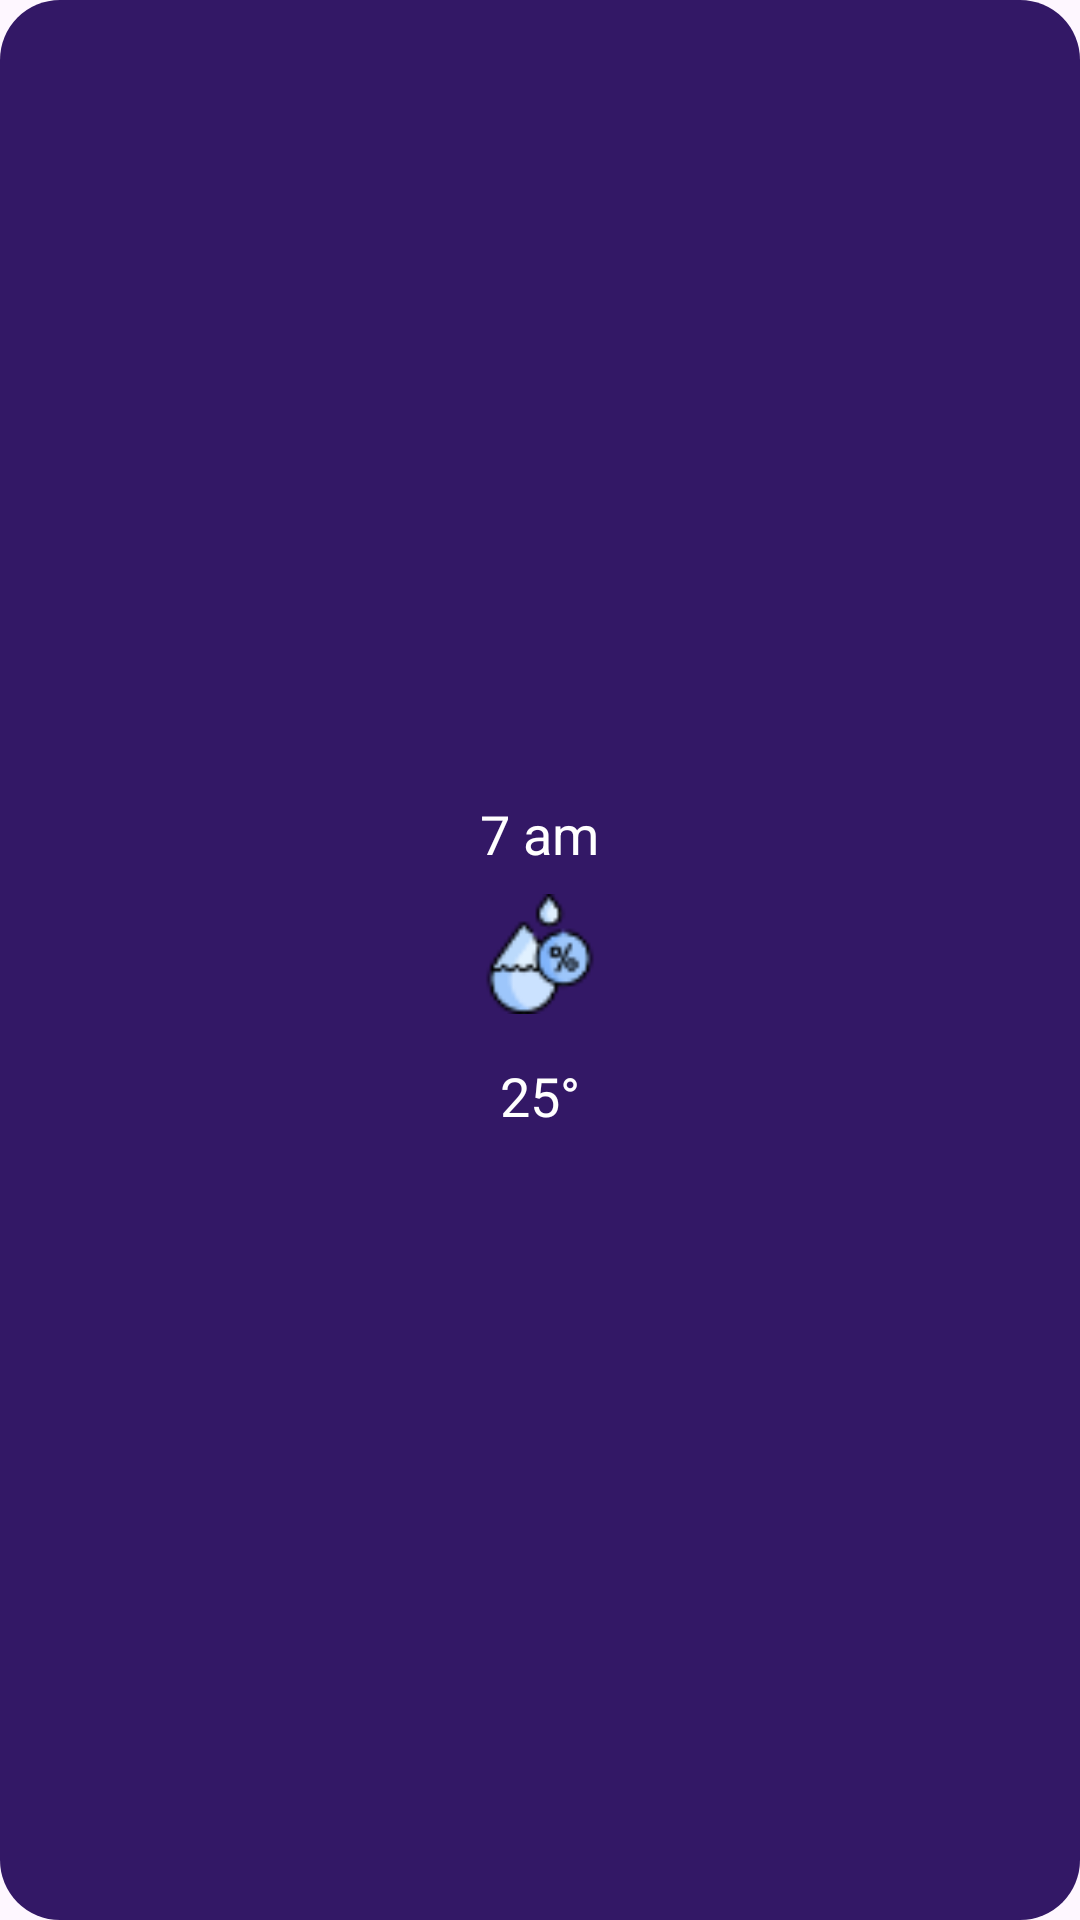

Where to tap for icons on this 1080 × 1920 app screen, as (x,y):
humidity: (540,954)
